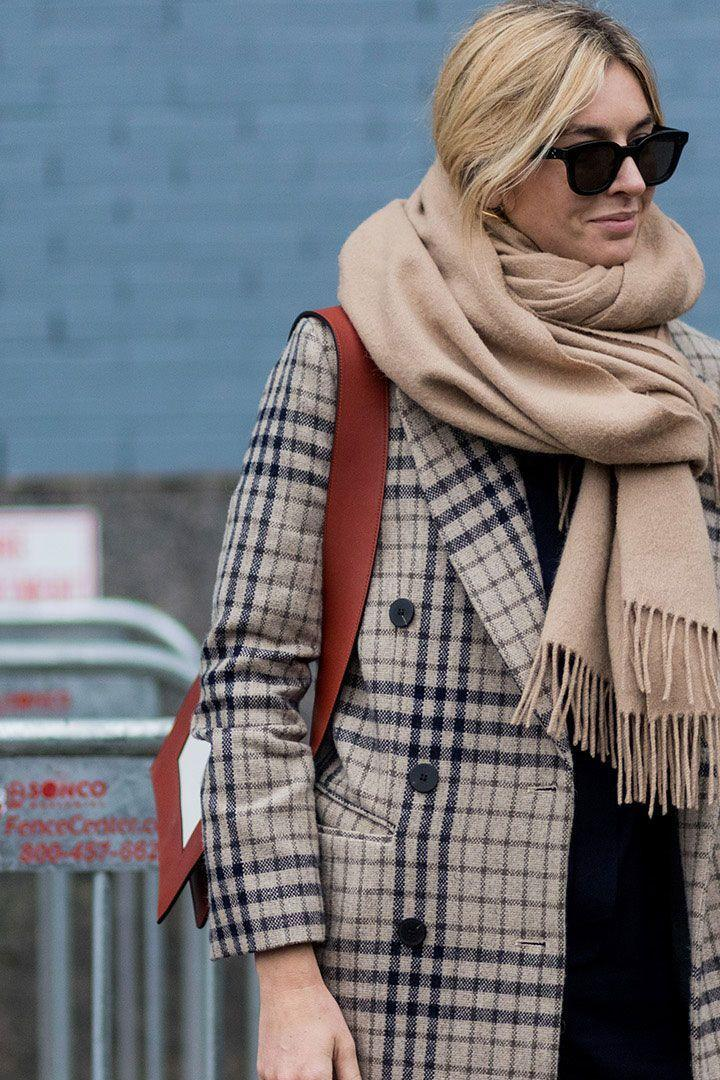sunglasses: (540, 120, 720, 213)
